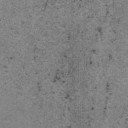oxide scale of temperature system: (35, 10, 117, 110), (91, 82, 112, 118), (2, 56, 14, 69), (40, 2, 48, 12), (66, 35, 71, 39), (66, 125, 72, 128), (78, 4, 82, 8)
